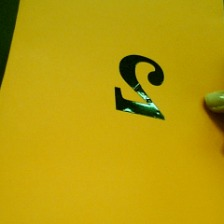orange2: (102, 51, 170, 124)
